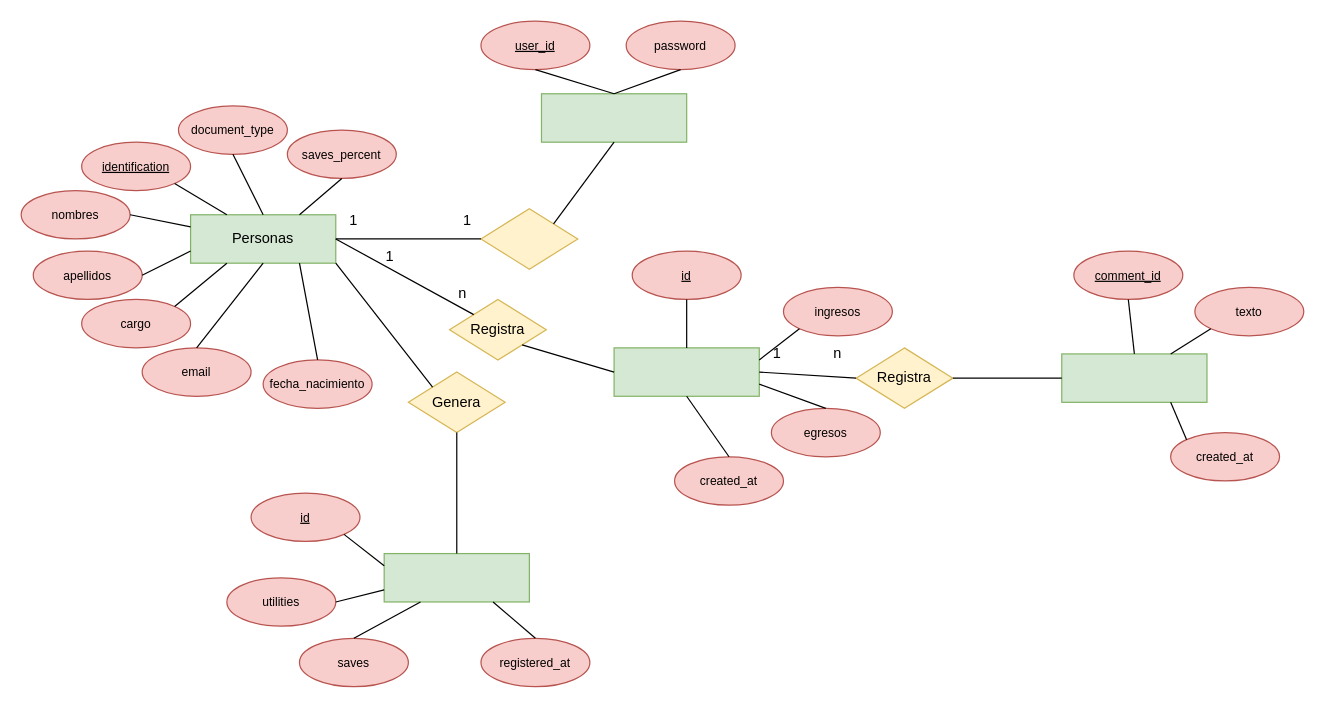
This 1325x708 diagram has some shape labels left out. The shapes that lost their labels are listed below. From the top down, each one's box as (x1, y1, x2, y2) in pixels, then its label:
(540, 93, 687, 142): Usuarios
(480, 208, 578, 269): Tiene
(613, 347, 759, 396): Cambios Mensuales
(1061, 353, 1207, 402): Comentarios
(383, 552, 529, 602): estadísticas
